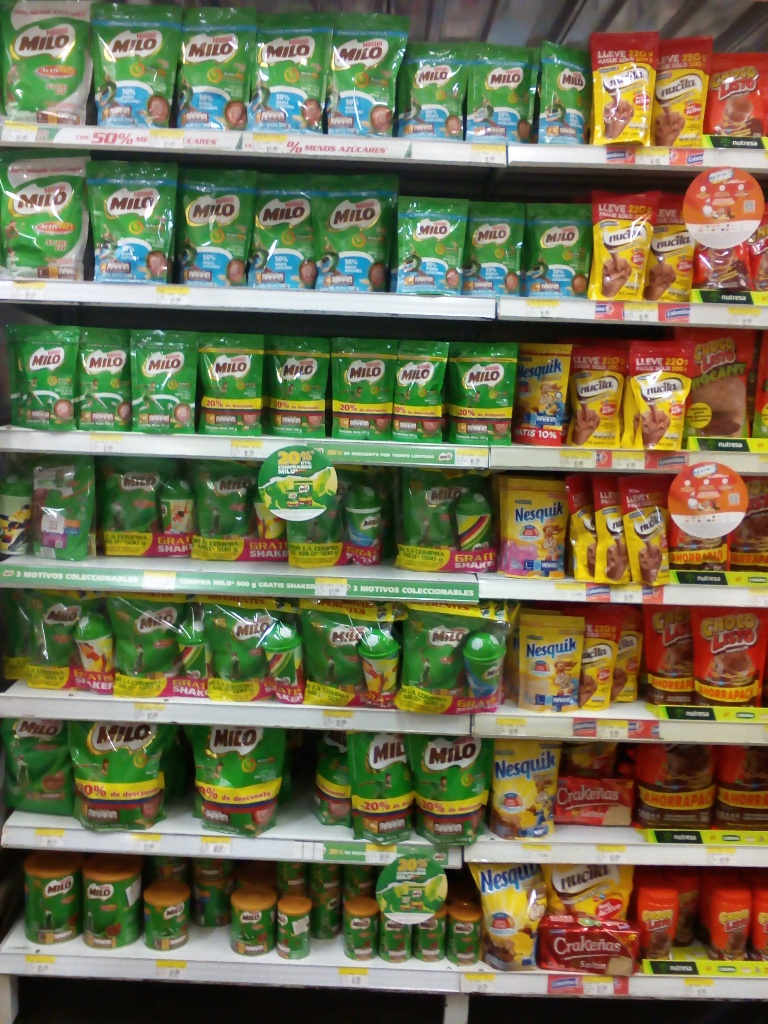COL0170102DYP25000: (684, 324, 752, 430)
COL0170103DYP20000: (713, 51, 765, 141)
COL0170103DYP40000: (703, 605, 764, 704)
COL0170103TRR00100: (634, 739, 718, 834)
COL0170103TRR30000: (634, 884, 681, 966)
COL0170203DYP25000: (125, 325, 198, 431)
COL0170203DYP50000: (98, 451, 165, 553)
COL0170203LAT20000: (274, 895, 320, 957)
COL0170203LAT40000: (140, 890, 189, 951)
COL0170205DYP20000: (399, 199, 471, 298)
COL0170205DYP50000: (76, 157, 174, 285)
COL0170303DYP20000: (487, 741, 557, 834)
COL0170305DYP20000: (503, 481, 570, 574)
COL0170306DYP20000: (515, 611, 584, 705)
